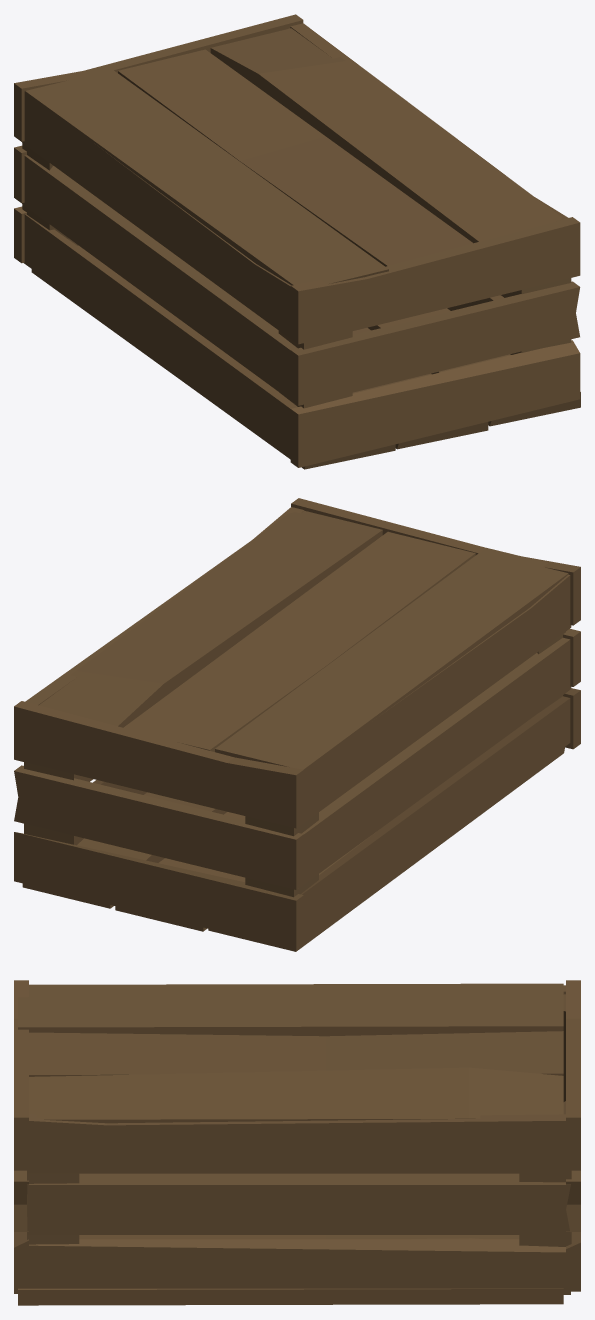
The model's file is Wooden Crate_1.fbx.
The picture shows the model from 3 angles, top to bottom: view 1: azimuth 30°, elevation 25°; view 2: azimuth 150°, elevation 25°; view 3: azimuth 270°, elevation 25°; orthographic projection.
Parts seen in each view (by area): view 1: Wooden Crate_1; view 2: Wooden Crate_1; view 3: Wooden Crate_1.
Boxes of the visible parts, box(x1,y1,x2,y2) form: Wooden Crate_1: box(14, 14, 580, 469); Wooden Crate_1: box(14, 498, 580, 951); Wooden Crate_1: box(14, 980, 580, 1305).
Bounding box in the file's own units: 69.83 × 45 × 121.
